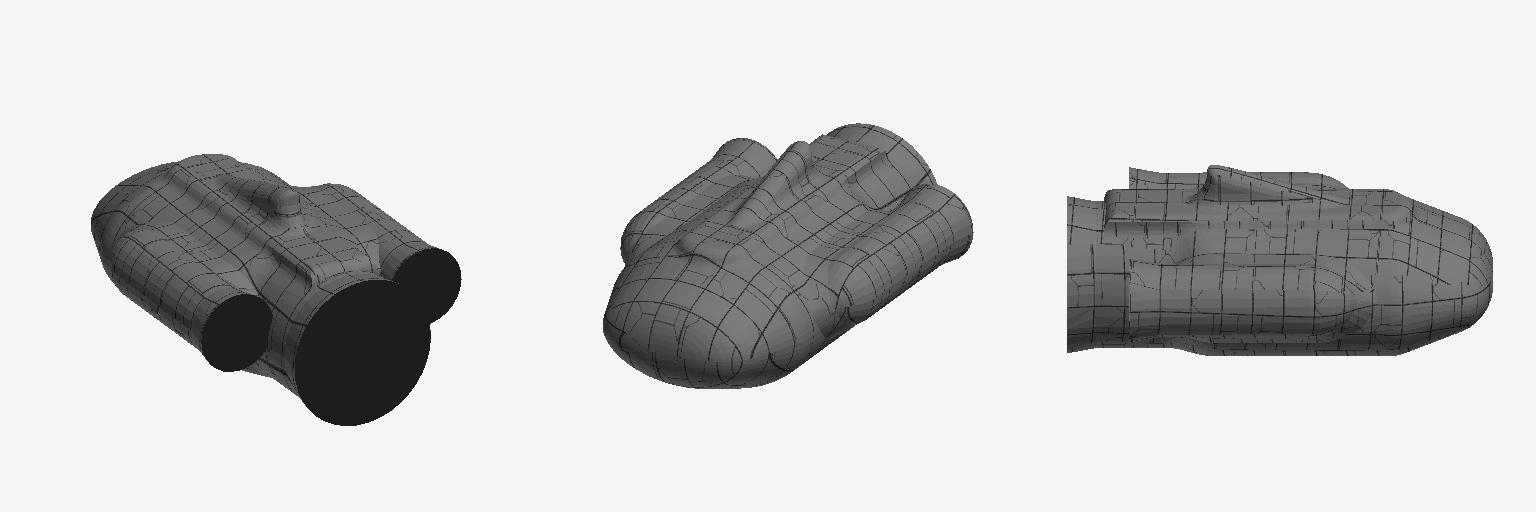
3 renders of one model, left to right at view 1: azimuth 30°, elevation 25°; view 2: azimuth 150°, elevation 25°; view 3: azimuth 270°, elevation 25°, orthographic.
Visible parts, largest first — view 1: Твердое_тело1.003; view 2: Твердое_тело1.003; view 3: Твердое_тело1.003.
Boxes of the visible parts, <box> form: Твердое_тело1.003: <box>91,154,461,425</box>; Твердое_тело1.003: <box>603,123,973,388</box>; Твердое_тело1.003: <box>1067,165,1492,355</box>.
Size of the model in its own units: 40.81 by 26.97 by 58.
Materials: 1 (1 with a texture image).